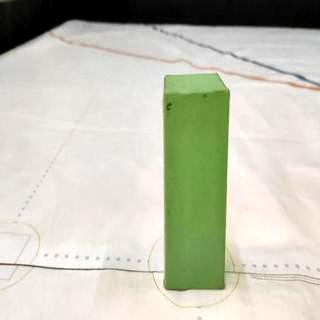greenbox: (163, 72, 230, 288)
